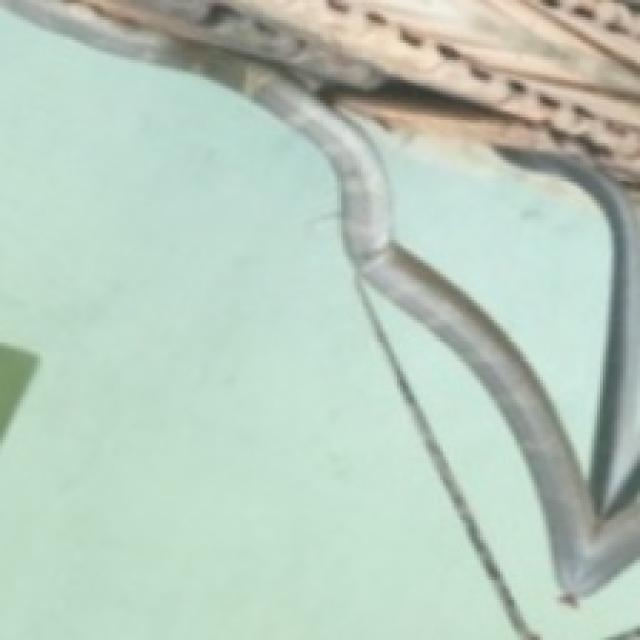king cobra: (0, 9, 514, 637), (369, 289, 637, 637), (374, 129, 609, 469)
